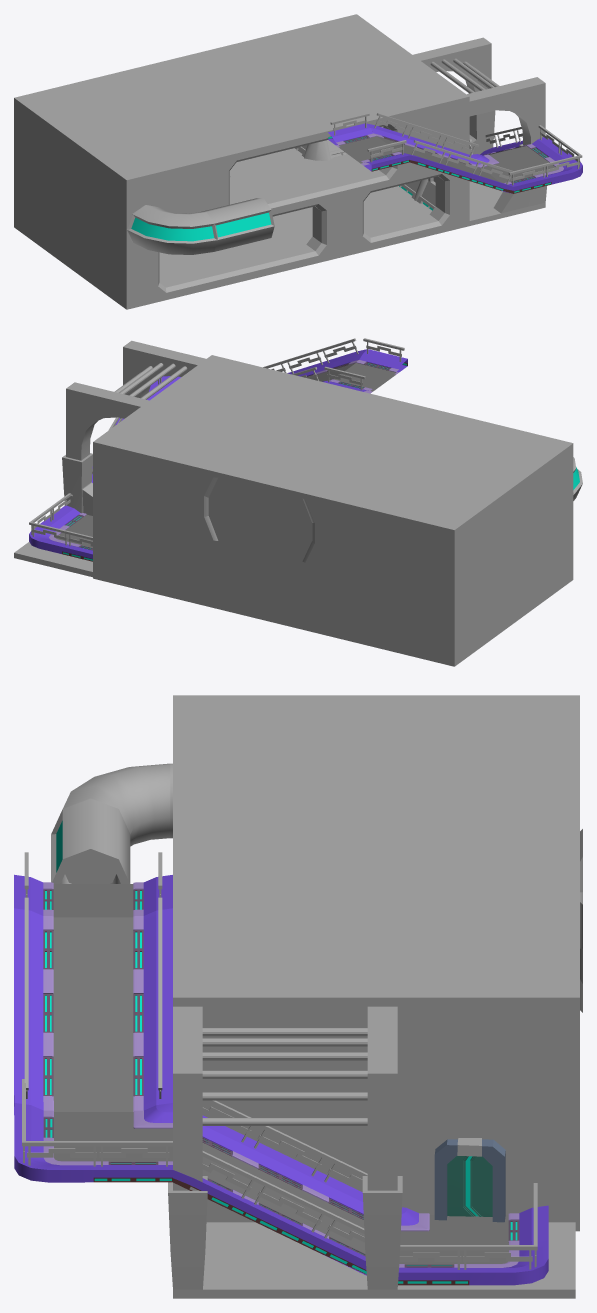
The picture shows the model from 3 angles, top to bottom: view 1: azimuth 30°, elevation 25°; view 2: azimuth 150°, elevation 25°; view 3: azimuth 270°, elevation 25°; orthographic projection. The views are drawn at different scales.
Parts seen in each view (by area): view 1: polySurface5627; view 2: polySurface5627; view 3: polySurface5627.
Boxes of the visible parts, box(x1,y1,x2,y2) form: polySurface5627: box(14, 14, 582, 309); polySurface5627: box(14, 338, 582, 666); polySurface5627: box(14, 695, 582, 1298).
Size of the model in its own units: 22.13 by 7.06 by 14.33.
